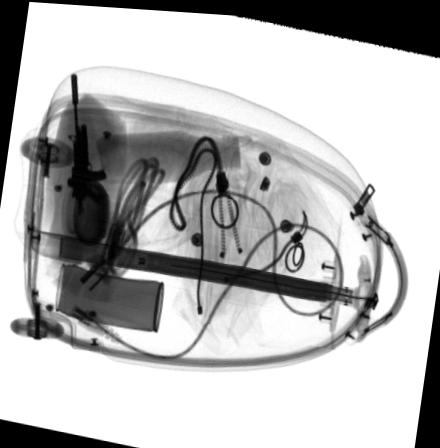Gun: (67, 67, 107, 216)
